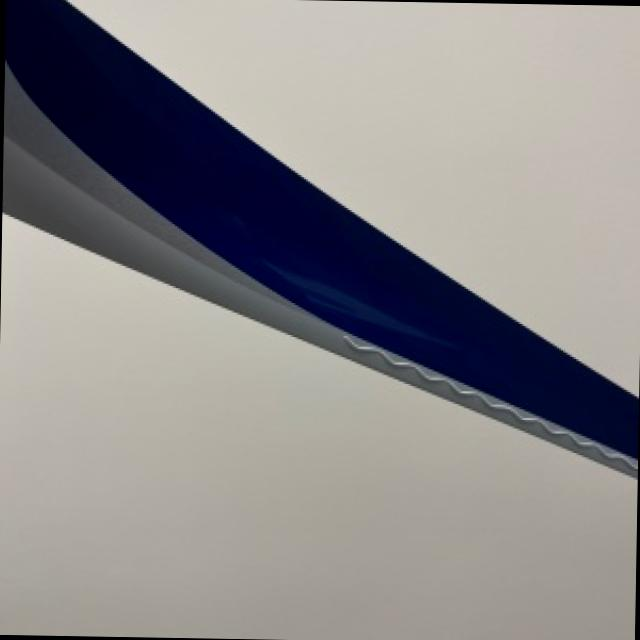healthy: (4, 0, 639, 473), (0, 212, 637, 640)
